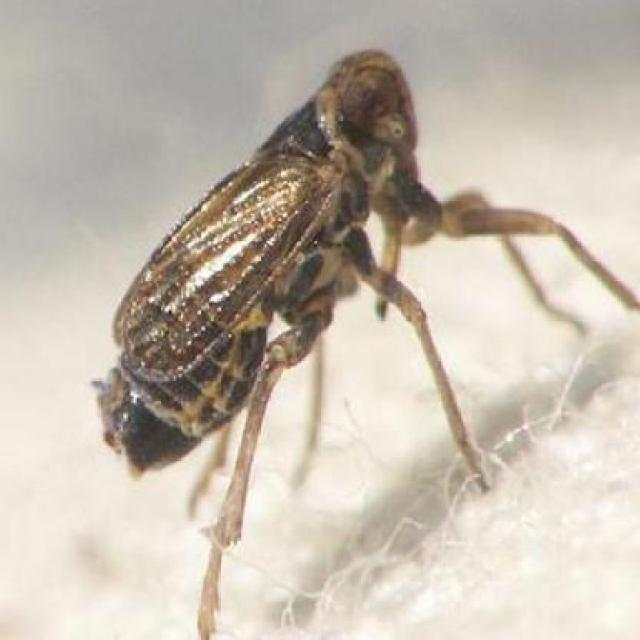brown-planthopper: (98, 41, 433, 482)
